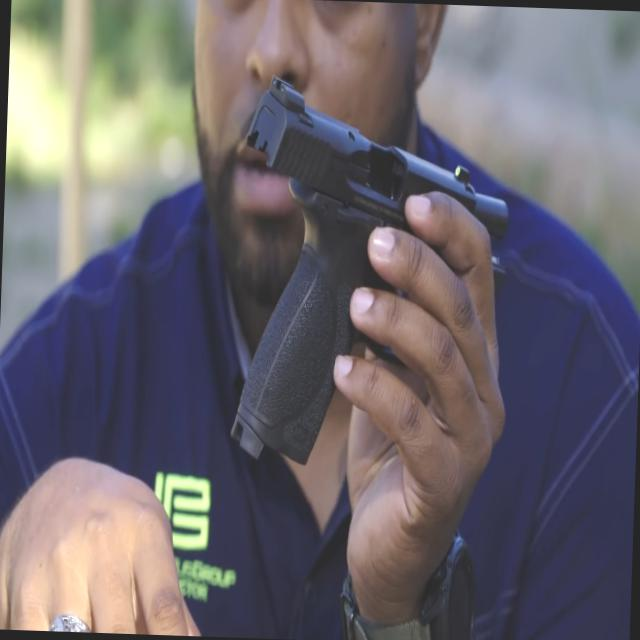handgun: (214, 84, 534, 507)
